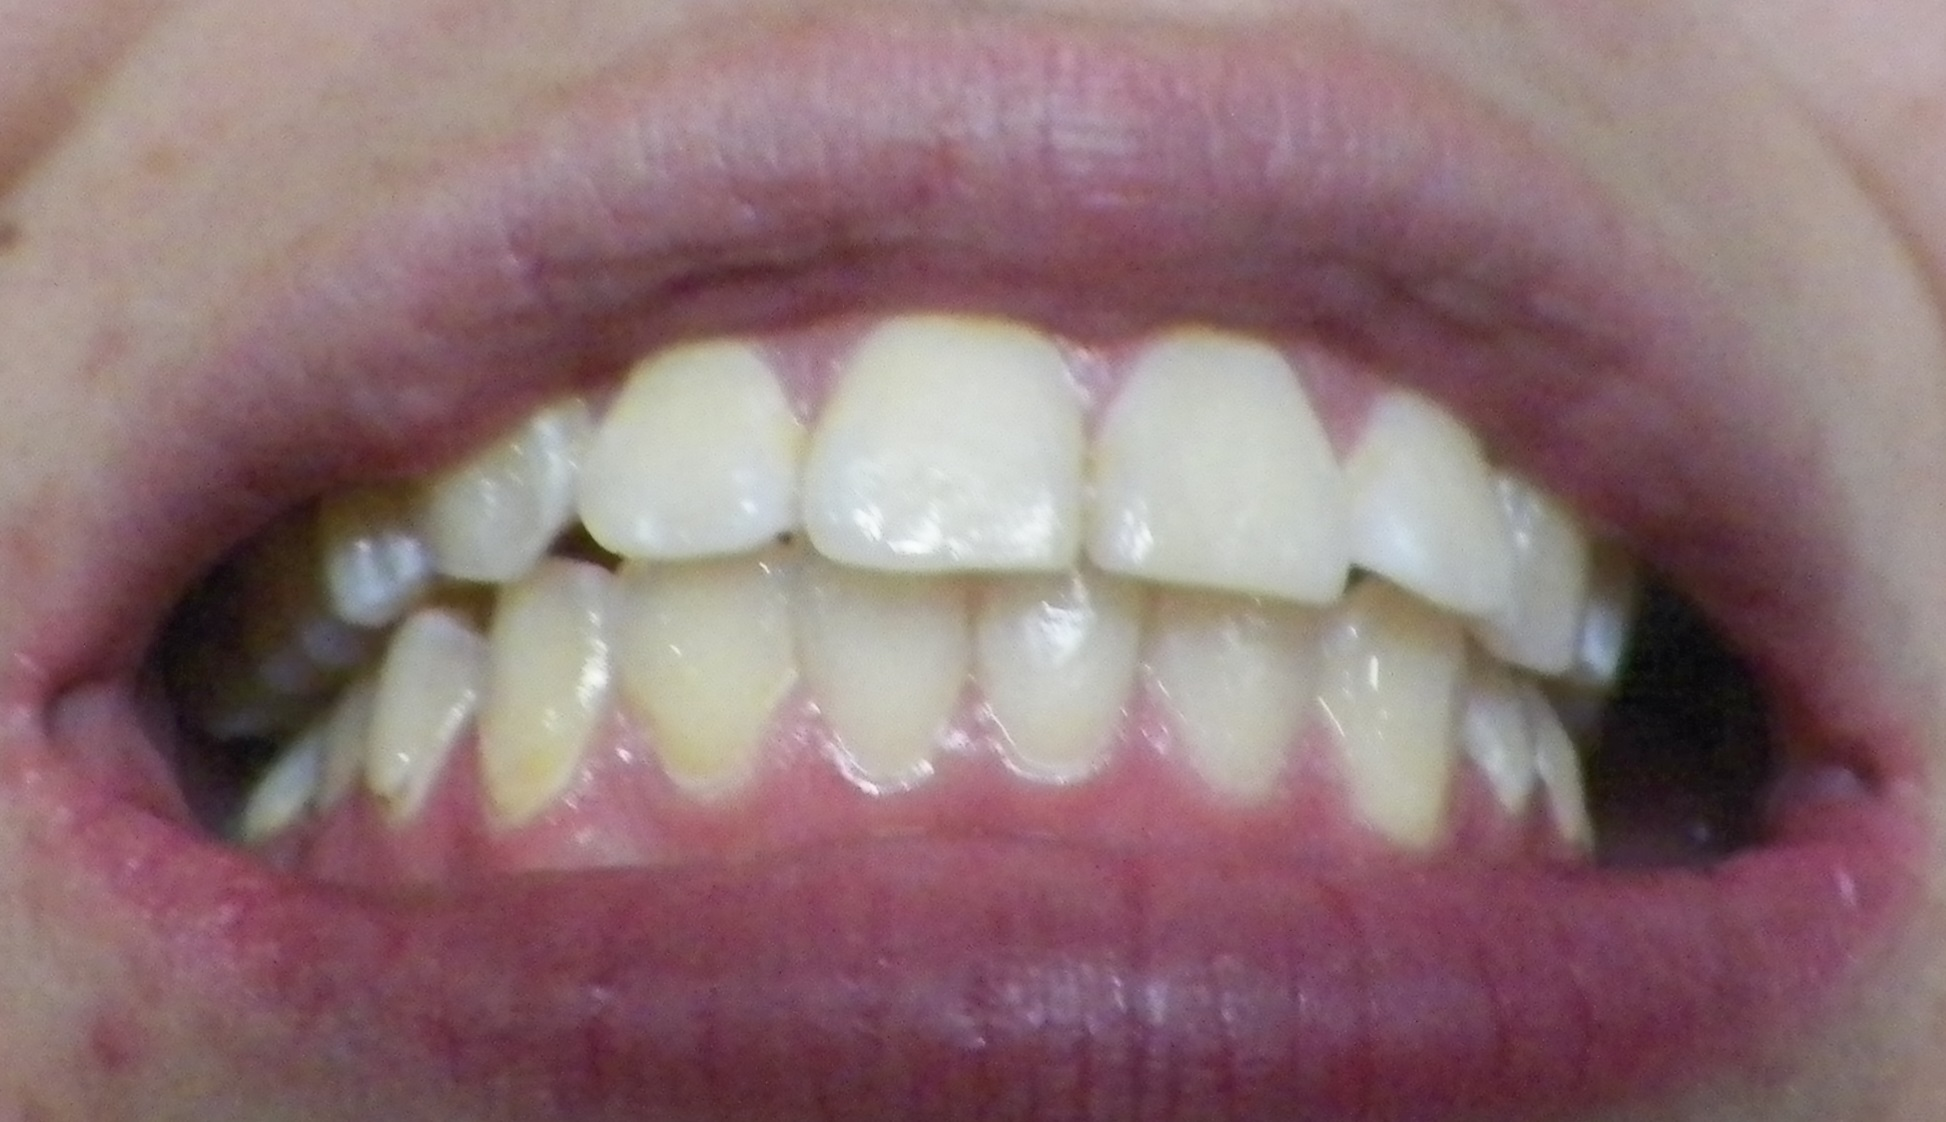boca: (215, 304, 1653, 841)
